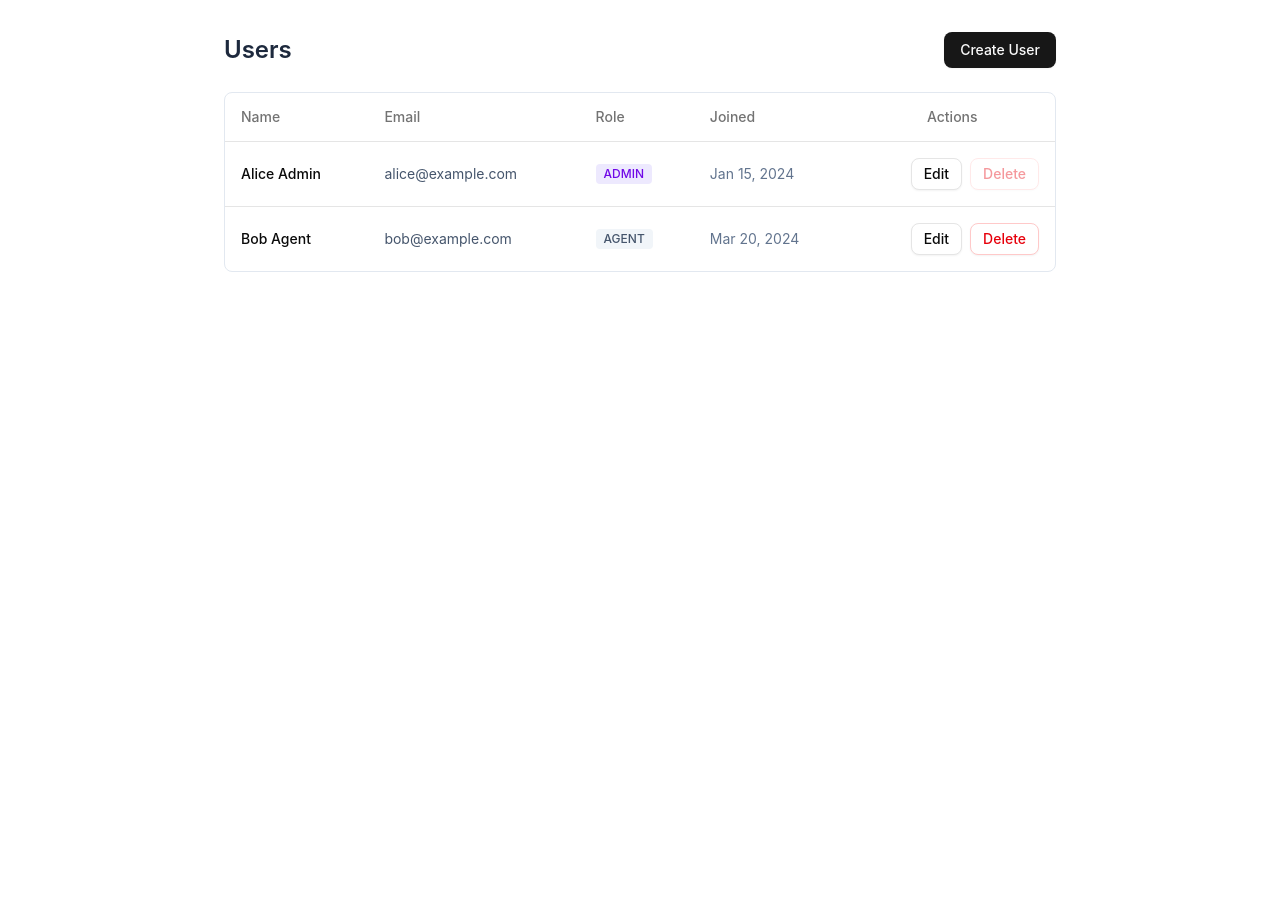
UsersPage › modal › closes and refetches the list after a successful submission
This screenshot has width=1280, height=900.
Check: the text "Alice Admin" is shown, box [225, 141, 368, 206]
Click the button "Create User".
click(1000, 50)  # box [944, 32, 1056, 68]
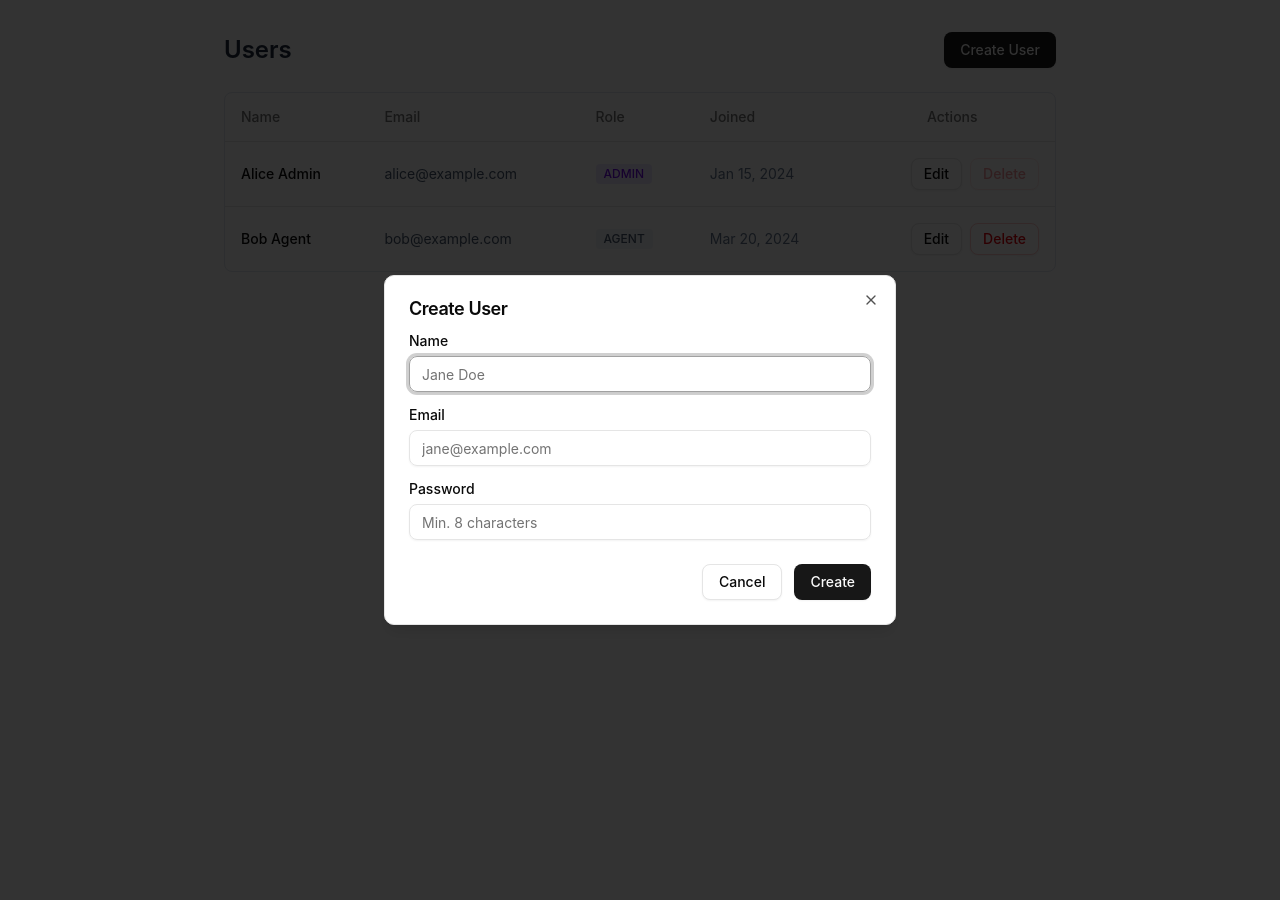
Type "New User" into the field labelled "Name".
click(640, 374); type("New User")  # box [409, 356, 871, 392]
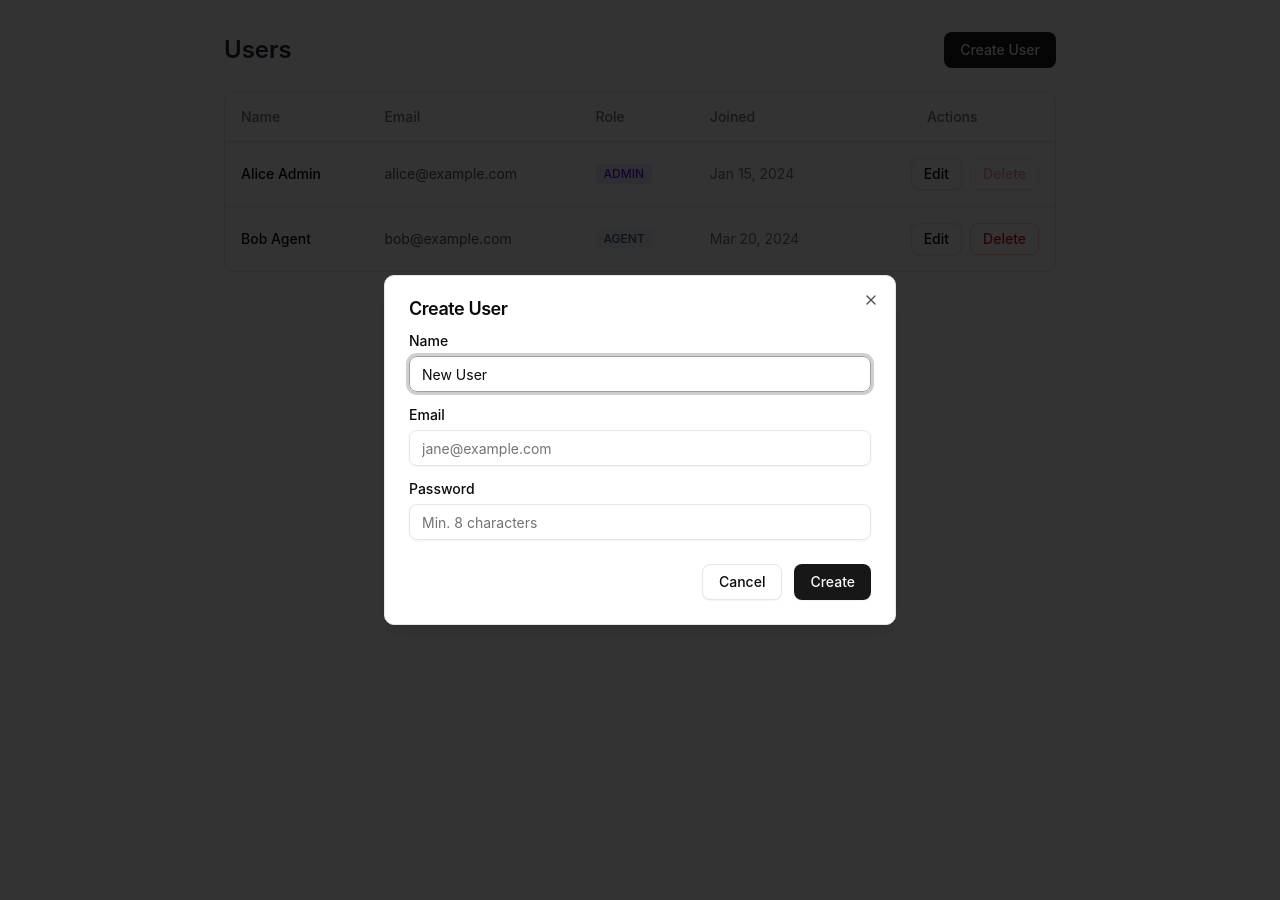
Type "new@example.com" into the field labelled "Email".
click(640, 448); type("new@example.com")  # box [409, 430, 871, 466]
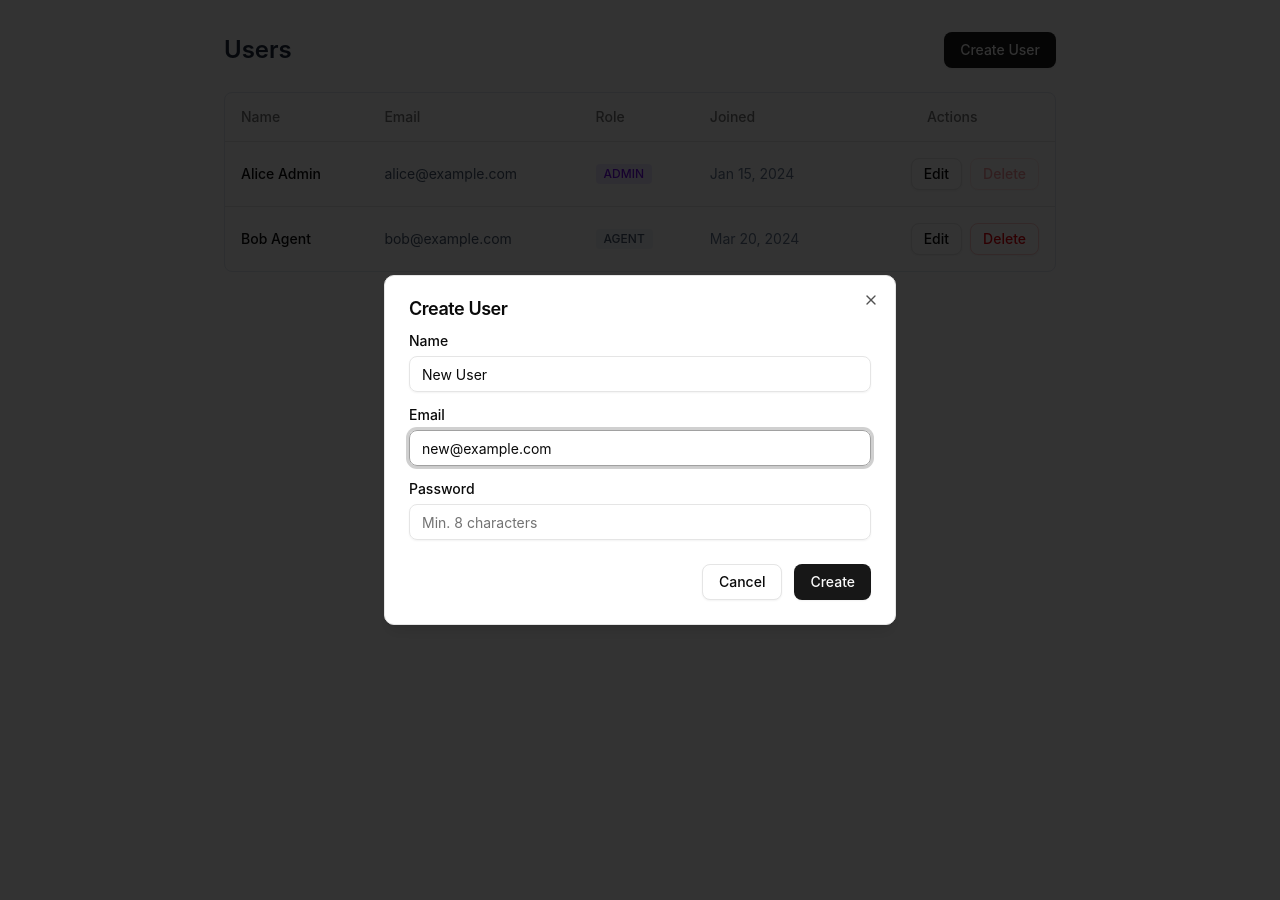
Type "password123" into the password field labelled "Password".
click(640, 522); type("password123")  # box [409, 504, 871, 540]
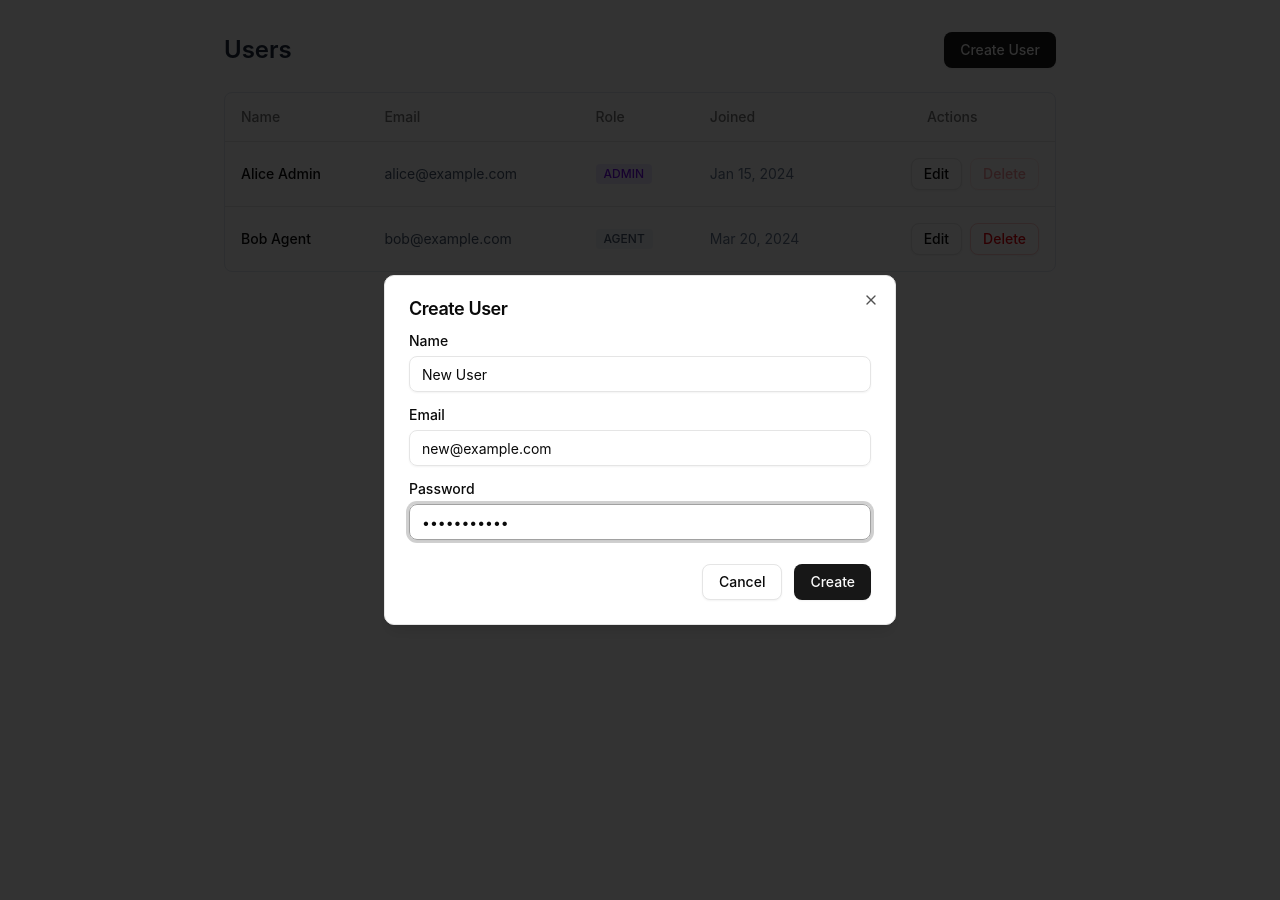
Click the button "Create".
click(833, 582)  # box [794, 564, 871, 600]
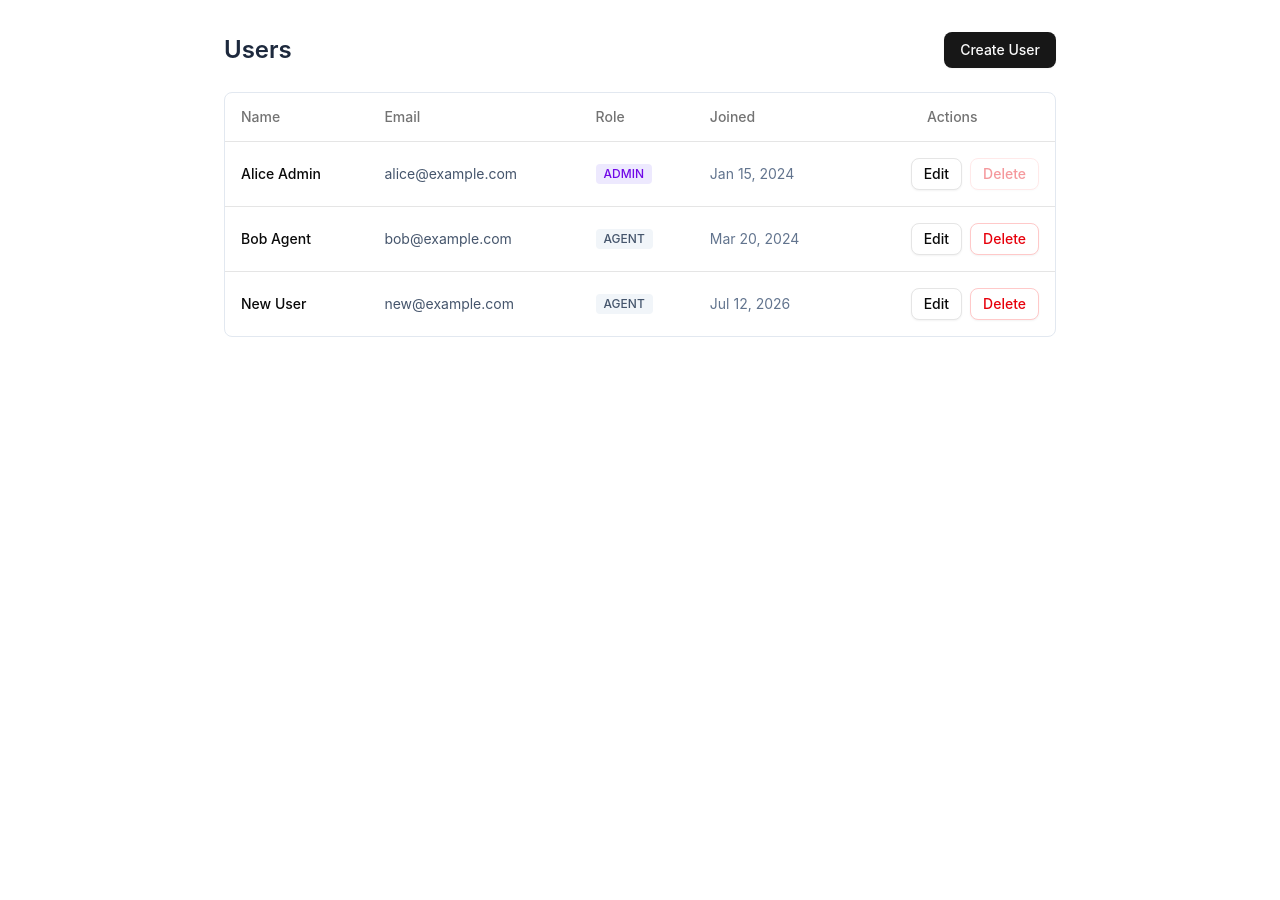
Check: the text "New User" is shown, box [225, 271, 368, 336]
